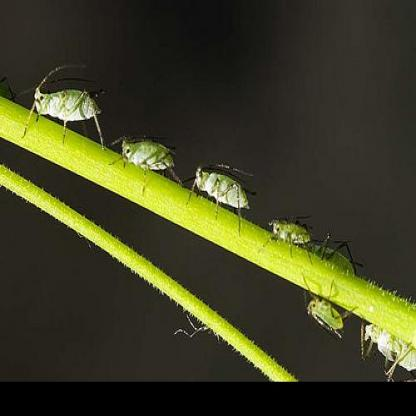aphid: (18, 61, 110, 156), (107, 117, 186, 199), (189, 154, 259, 238), (358, 312, 416, 380), (300, 278, 358, 342), (299, 230, 364, 277), (266, 210, 315, 259)
